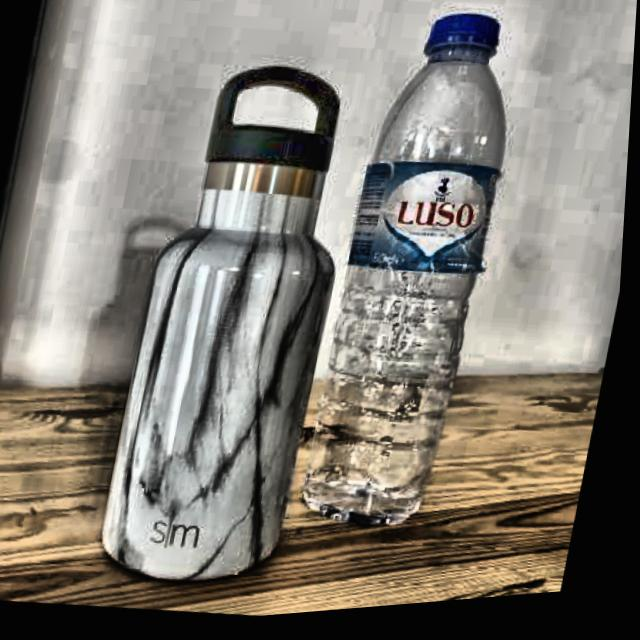Bottles: (291, 0, 554, 569)
